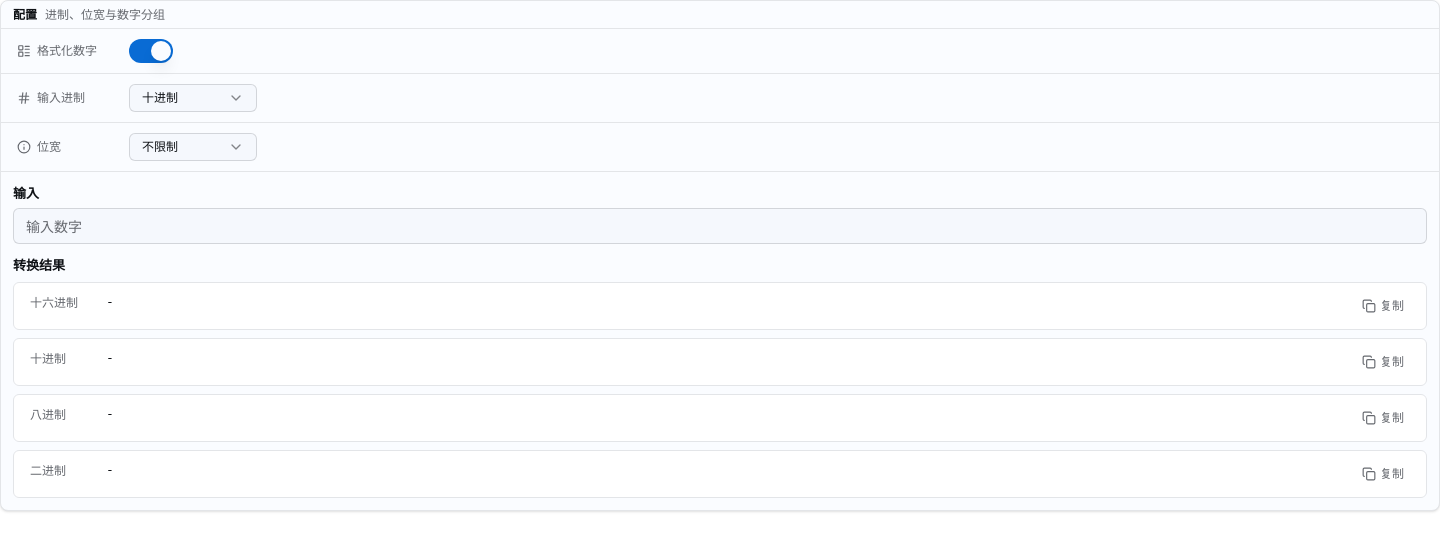
Test case: NumberBaseConverter › 输入十进制渲染四种进制结果
In the field with test id "nb-input": (720, 226) x1=13 y1=208 x2=1427 y2=244, type "255"
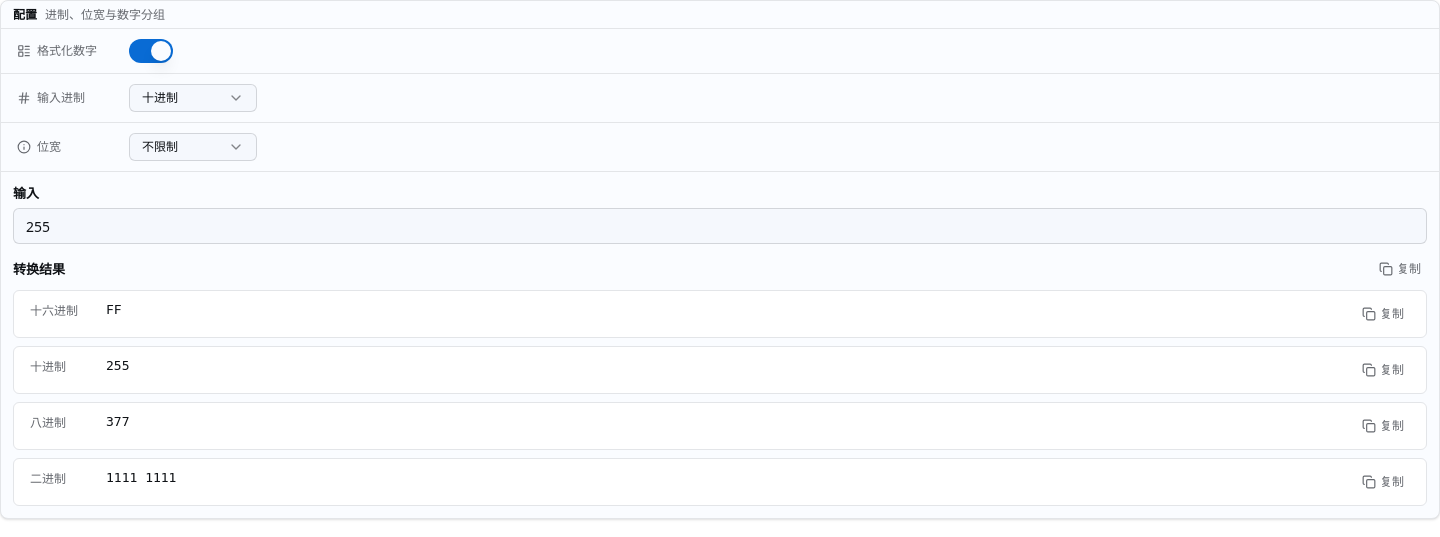
Result: the text with test id "nb-result-16" reads "FF" at x1=106 y1=302 x2=122 y2=317
Result: the text with test id "nb-result-10" reads "255" at x1=106 y1=358 x2=130 y2=373
Result: the text with test id "nb-result-8" reads "377" at x1=106 y1=414 x2=130 y2=429
